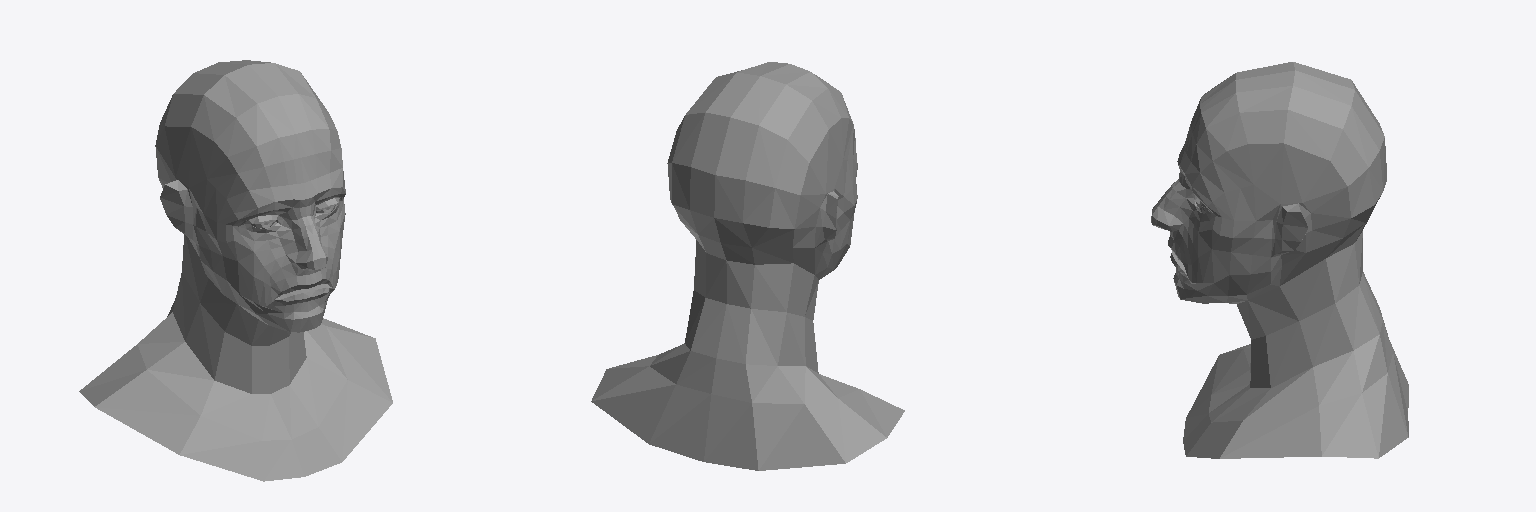
Rendered from sad.obj.
The picture shows the model from 3 angles: view 1: azimuth 30°, elevation 25°; view 2: azimuth 150°, elevation 25°; view 3: azimuth 270°, elevation 25°; orthographic projection.
Visible parts, largest first — view 1: polySurface26.001; view 2: polySurface26.001; view 3: polySurface26.001.
Part boxes in pixels (bbox=[...]): polySurface26.001: bbox=[79, 60, 392, 481]; polySurface26.001: bbox=[591, 62, 904, 470]; polySurface26.001: bbox=[1151, 62, 1408, 458].
Size of the model in its own units: 7.84 by 9.9 by 6.21.